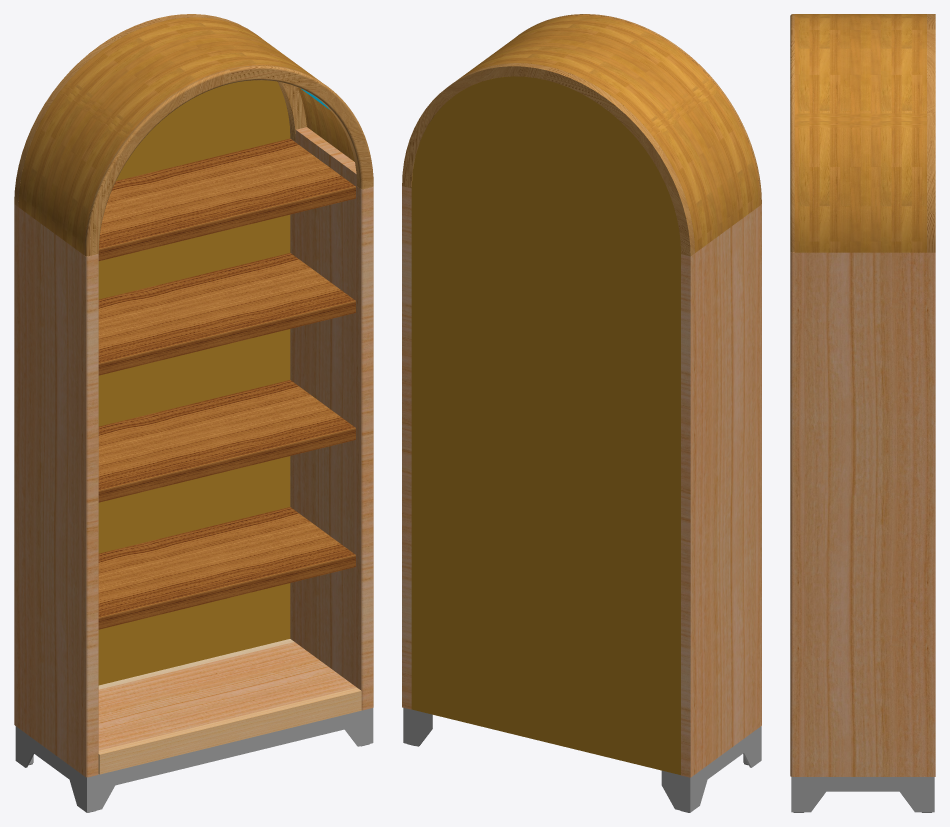
Rendered from IFD8681BKS-mwn2upwl.glb.
3 views of the same model, side by side, from view 1: azimuth 30°, elevation 25°; view 2: azimuth 150°, elevation 25°; view 3: azimuth 270°, elevation 25° (orthographic).
Parts seen in each view (by area): view 1: IFD8681BKS - COSTADO LATERAL-2, IFD8681BKS - COSTADO LATERAL-1, IFD8681BKS - RESPALDO SUPERIOR1-3, curva prueba 8681-1, IFD8681BKS - RESPALDO INFERIOR-1, IFD8681BKS - PISO-1, IFD8681BKS - ENTREPAÑO-2, IFD8681BKS - ENTREPAÑO-1, IFD8681BKS - ENTREPAÑO-3, IFD8681BKS - ENTREPAÑO-4, IFD8681BKS- ARMADOR FRONTAL-1, IFD8681BKS - VISTA DE ENTREPAÑO-3 (+10 smaller); view 2: IFD8681BKS - RESPALDO SUPERIOR1-3, IFD8681BKS - RESPALDO INFERIOR-1, IFD8681BKS - COSTADO LATERAL-2, curva prueba 8681-1, 8681BKS-ENSAMBLE TAPAS POST-1/IFD8681BKS-TAPA CUBIERTA POST- (×2), IFD8681BKS - COSTADO LATERAL-1, IFD8681BKS-PATA HERRERIA-23/IFD8681BKS-FRETE DE PATA-1, IFD8681BKS-PATA HERRERIA-20/IFD8681BKS-FRETE DE PATA-2; view 3: IFD8681BKS - COSTADO LATERAL-1, curva prueba 8681-1, 8681BKS-ENSAMBLE TAPAS POST-1/IFD8681BKS-TAPA CUBIERTA POST-, 8681BKS-ENSAMBLE TAPAS-1/IFD8681BKS-TAPA CUBIERTA 3-1, IFD8681BKS-LATERAL DE BASE HSLDPRT-1, IFD8681BKS-PATA HERRERIA-1/IFD8681BKS-FRETE DE PATA-2, IFD8681BKS-PATA HERRERIA-20/IFD8681BKS-FRETE DE PATA-1.
Part boxes in pixels (x1,y1,x2,y2): IFD8681BKS - COSTADO LATERAL-2: [14, 204, 98, 777]; IFD8681BKS - COSTADO LATERAL-1: [290, 127, 373, 710]; IFD8681BKS - RESPALDO SUPERIOR1-3: [98, 80, 290, 426]; curva prueba 8681-1: [18, 17, 354, 254]; IFD8681BKS - RESPALDO INFERIOR-1: [98, 456, 290, 685]; IFD8681BKS - PISO-1: [98, 642, 356, 750]; IFD8681BKS - ENTREPAÑO-2: [98, 380, 351, 486]; IFD8681BKS - ENTREPAÑO-1: [98, 507, 351, 613]; IFD8681BKS - ENTREPAÑO-3: [98, 253, 351, 359]; IFD8681BKS - ENTREPAÑO-4: [99, 138, 351, 244]; IFD8681BKS- ARMADOR FRONTAL-1: [98, 688, 361, 774]; IFD8681BKS - VISTA DE ENTREPAÑO-3: [98, 298, 355, 375]; IFD8681BKS - RESPALDO SUPERIOR1-3: [411, 76, 680, 509]; IFD8681BKS - RESPALDO INFERIOR-1: [411, 444, 680, 774]; IFD8681BKS - COSTADO LATERAL-2: [681, 204, 761, 777]; curva prueba 8681-1: [456, 15, 760, 252]; 8681BKS-ENSAMBLE TAPAS POST-1/IFD8681BKS-TAPA CUBIERTA POST- (×2): [402, 63, 694, 256]; IFD8681BKS - COSTADO LATERAL-1: [402, 186, 411, 709]; IFD8681BKS-PATA HERRERIA-23/IFD8681BKS-FRETE DE PATA-1: [661, 770, 691, 812]; IFD8681BKS-PATA HERRERIA-20/IFD8681BKS-FRETE DE PATA-2: [403, 708, 432, 746]; IFD8681BKS - COSTADO LATERAL-1: [790, 252, 935, 776]; curva prueba 8681-1: [794, 14, 926, 252]; 8681BKS-ENSAMBLE TAPAS POST-1/IFD8681BKS-TAPA CUBIERTA POST-: [927, 29, 935, 252]; 8681BKS-ENSAMBLE TAPAS-1/IFD8681BKS-TAPA CUBIERTA 3-1: [790, 29, 794, 252]; IFD8681BKS-LATERAL DE BASE HSLDPRT-1: [826, 777, 899, 791]; IFD8681BKS-PATA HERRERIA-1/IFD8681BKS-FRETE DE PATA-2: [793, 777, 826, 812]; IFD8681BKS-PATA HERRERIA-20/IFD8681BKS-FRETE DE PATA-1: [899, 777, 932, 812].
Bounding box in the file's own units: 0.76 × 1.79 × 0.33.
Materials: 11 (7 with a texture image).
